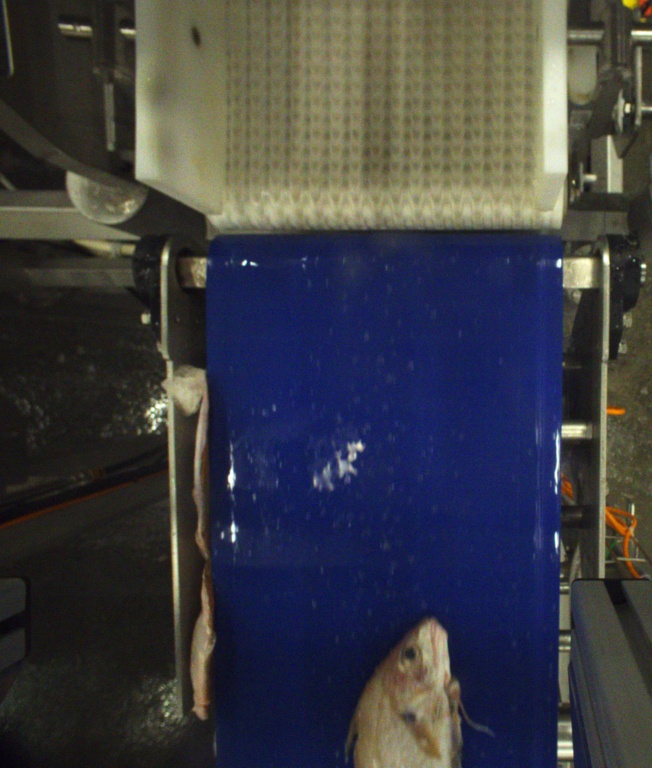BIB: (349, 620, 465, 768)
